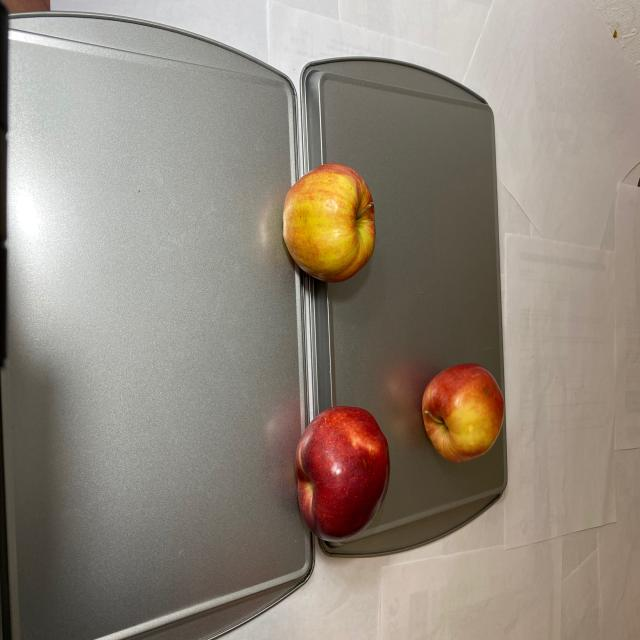apple: (293, 357, 504, 546), (273, 160, 380, 283)
